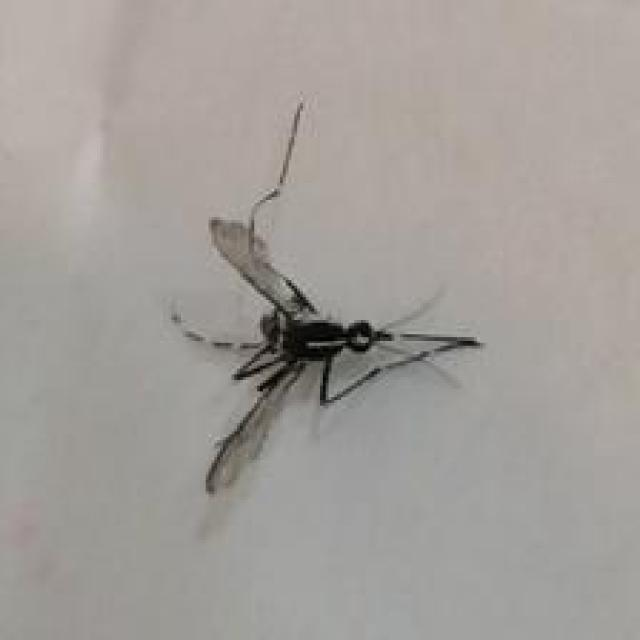Aedes albopictus: (168, 96, 486, 496)
